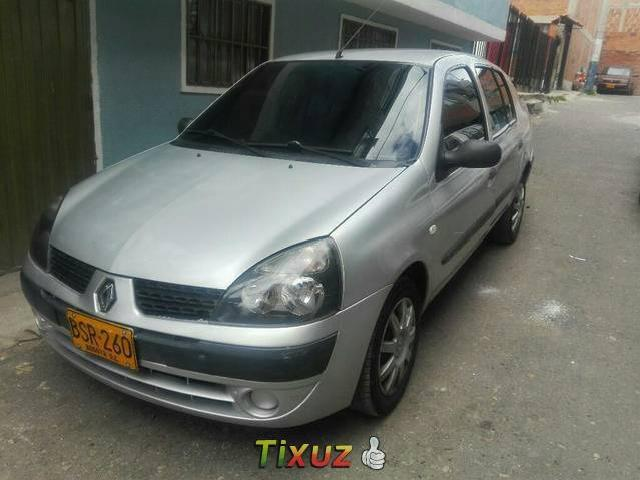car: (23, 48, 534, 435), (594, 65, 633, 95)
